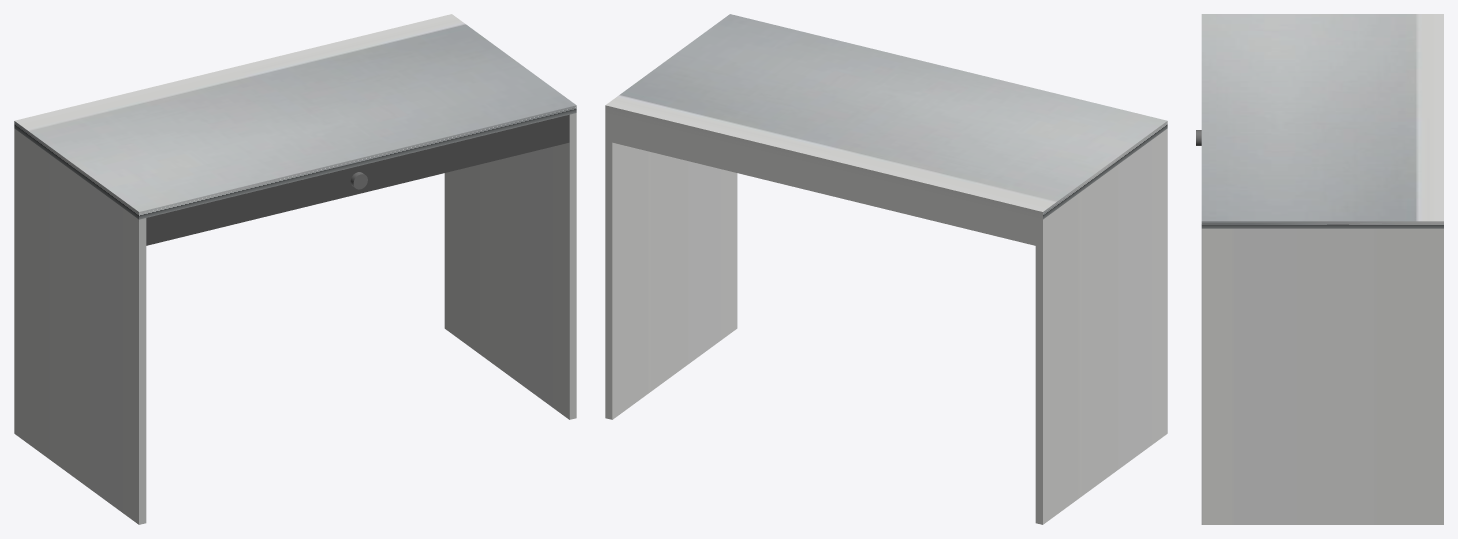
The model's file is mesa.fbx.
3 views of the same model, side by side, from view 1: azimuth 30°, elevation 25°; view 2: azimuth 150°, elevation 25°; view 3: azimuth 270°, elevation 25° (orthographic). The views are drawn at different scales.
Visible parts, largest first — view 1: pCube2; view 2: pCube2; view 3: pCube2.
Part boxes in pixels (x1,y1,x2,y2): pCube2: (14, 14, 576, 524); pCube2: (605, 14, 1167, 524); pCube2: (1196, 14, 1443, 524).
Size of the model in its own units: 120 by 82 by 60.64.
Materials: 3 (1 with a texture image).
